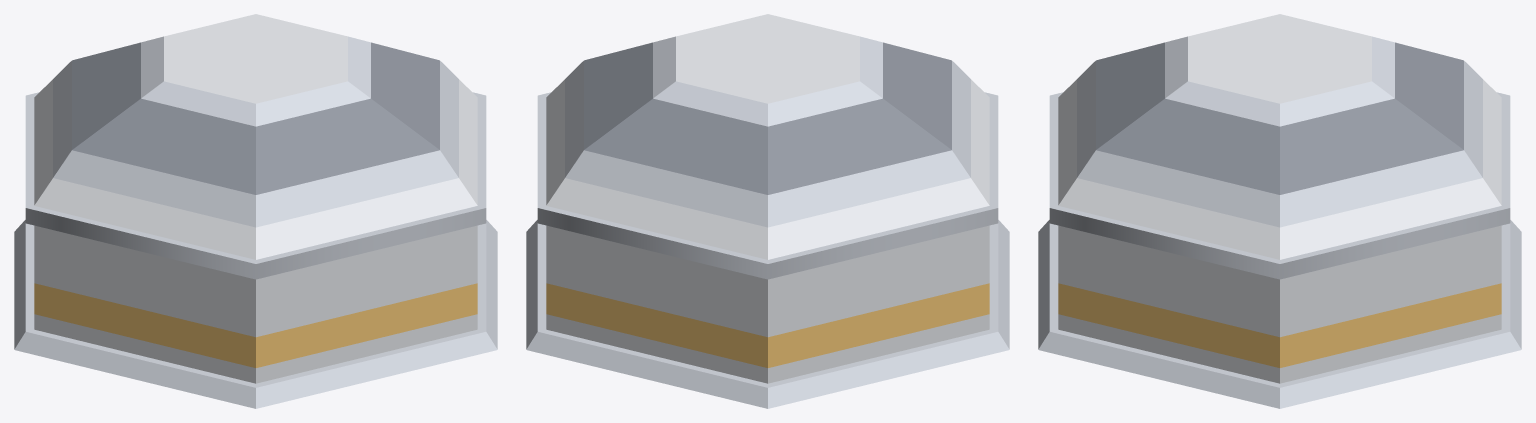
Rendered from hangar_roundA.glb.
3 renders of one model, left to right at view 1: azimuth 30°, elevation 25°; view 2: azimuth 150°, elevation 25°; view 3: azimuth 270°, elevation 25°, orthographic.
Visible parts, largest first — view 1: hangar_roundA; view 2: hangar_roundA; view 3: hangar_roundA.
Part boxes in pixels (left/top/right/bottom): hangar_roundA: left=14, top=14, right=497, bottom=408; hangar_roundA: left=526, top=14, right=1009, bottom=408; hangar_roundA: left=1038, top=14, right=1521, bottom=408.
Bounding box in the file's own units: 3.27 × 1.5 × 2.83.
